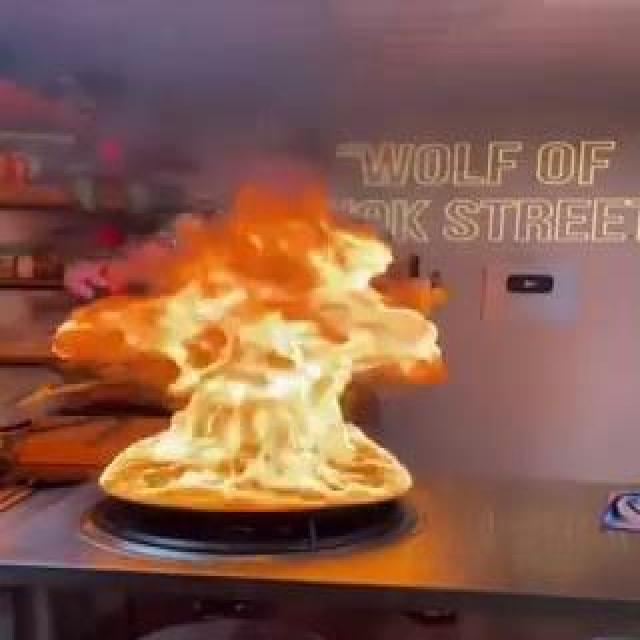Fire: (63, 160, 421, 517)
